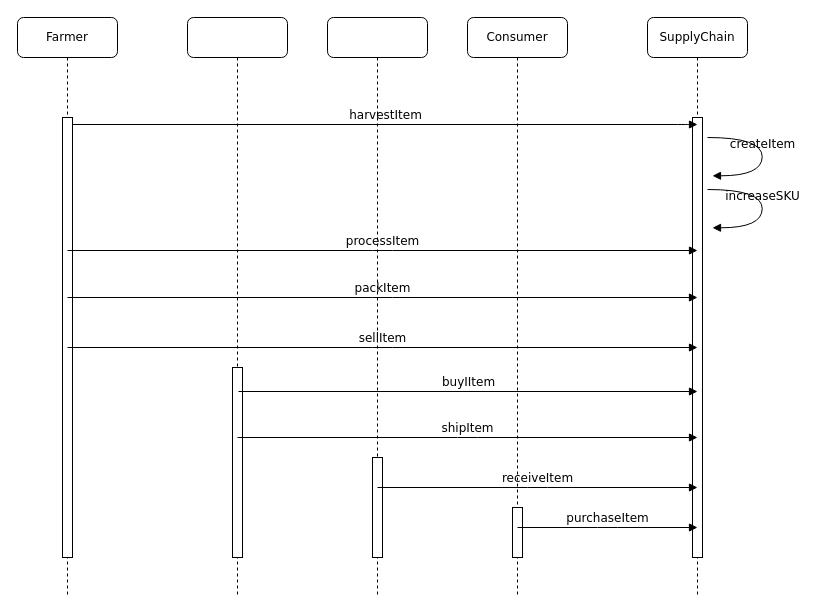
This 817x615 diagram has some shape labels left out. The shapes that lost their labels are listed below. From the top down, each one's box as (x1, y1, x2, y2) in pixels, then its label:
(186, 16, 288, 598): Distributor
(326, 16, 428, 598): Retailer
